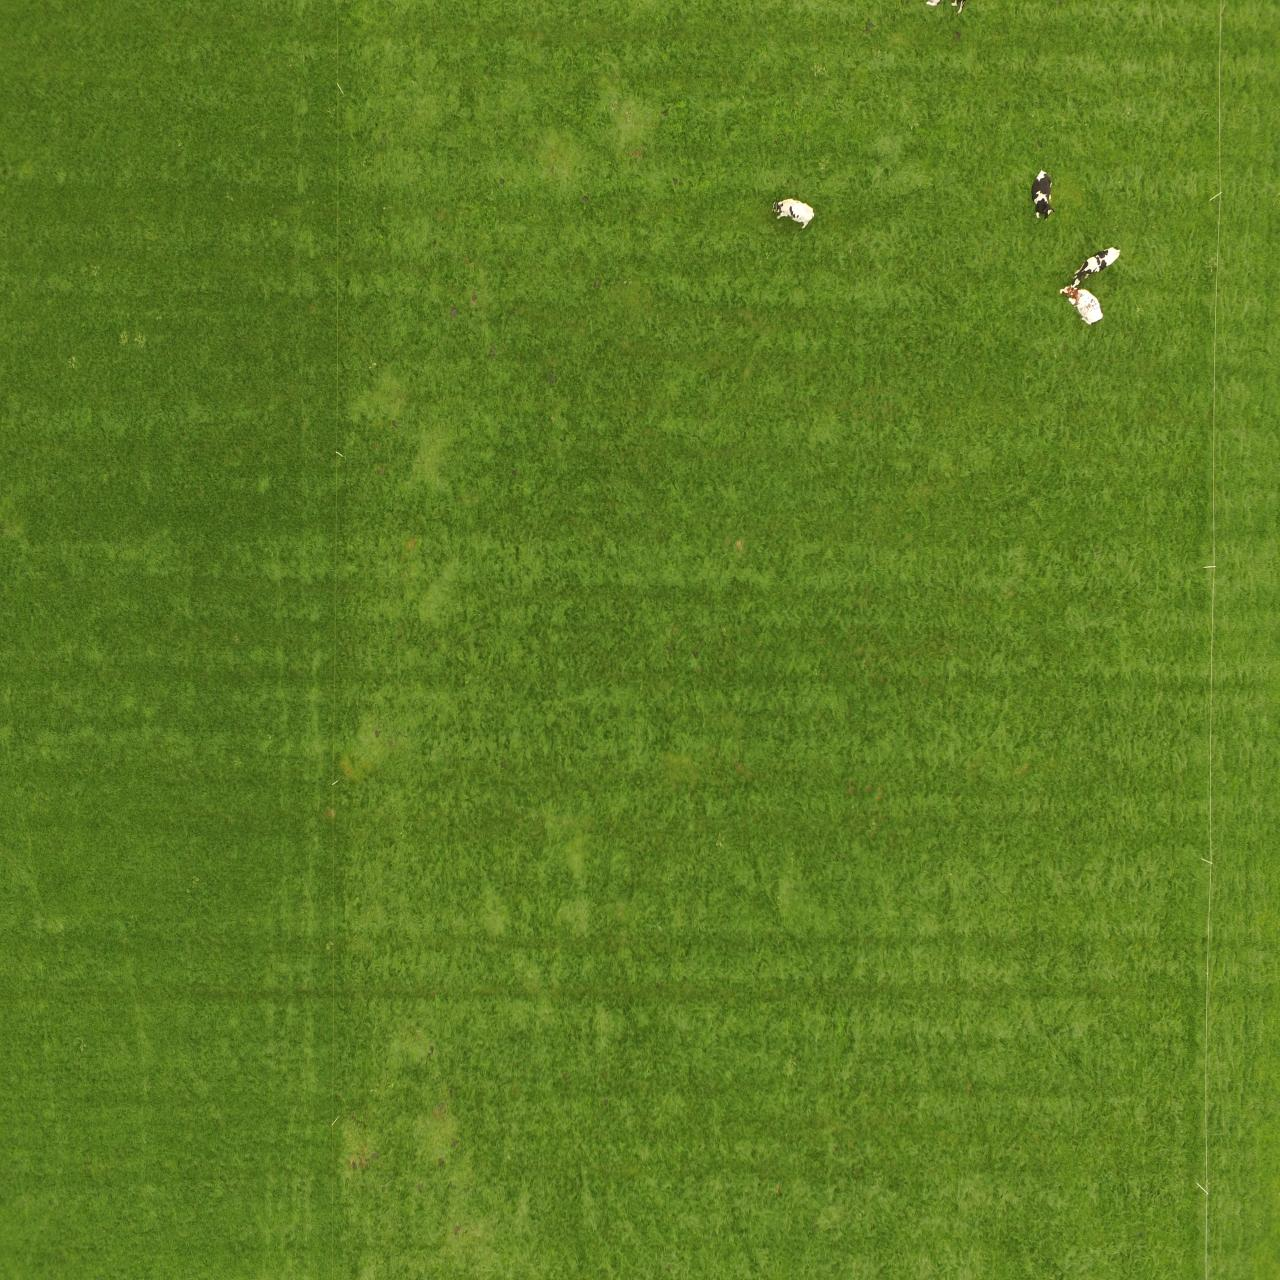cow: (1055, 281, 1105, 324), (1071, 244, 1124, 278), (769, 195, 816, 229), (1033, 168, 1054, 222)
